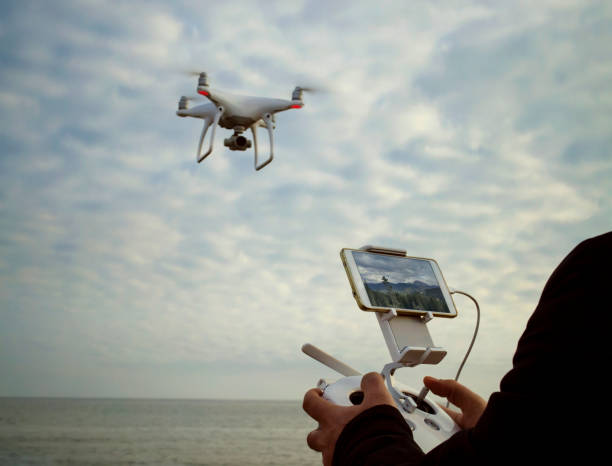Drone: (165, 61, 313, 170)
